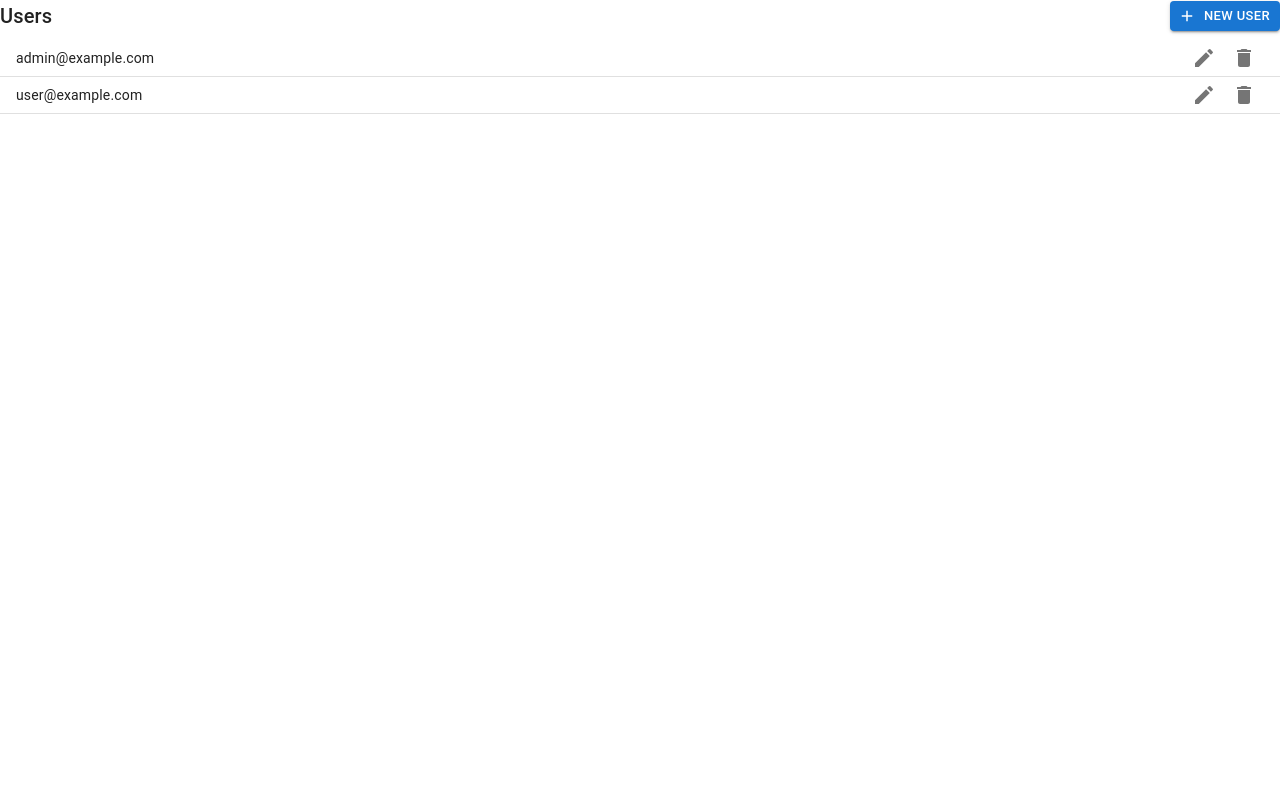
Test: RecordSection › offers Delete on every row and confirms with the default text
The image size is (1280, 800).
Click the button named "Delete" in the row of "user@example.com" at (1244, 95), box [1224,75,1264,115]
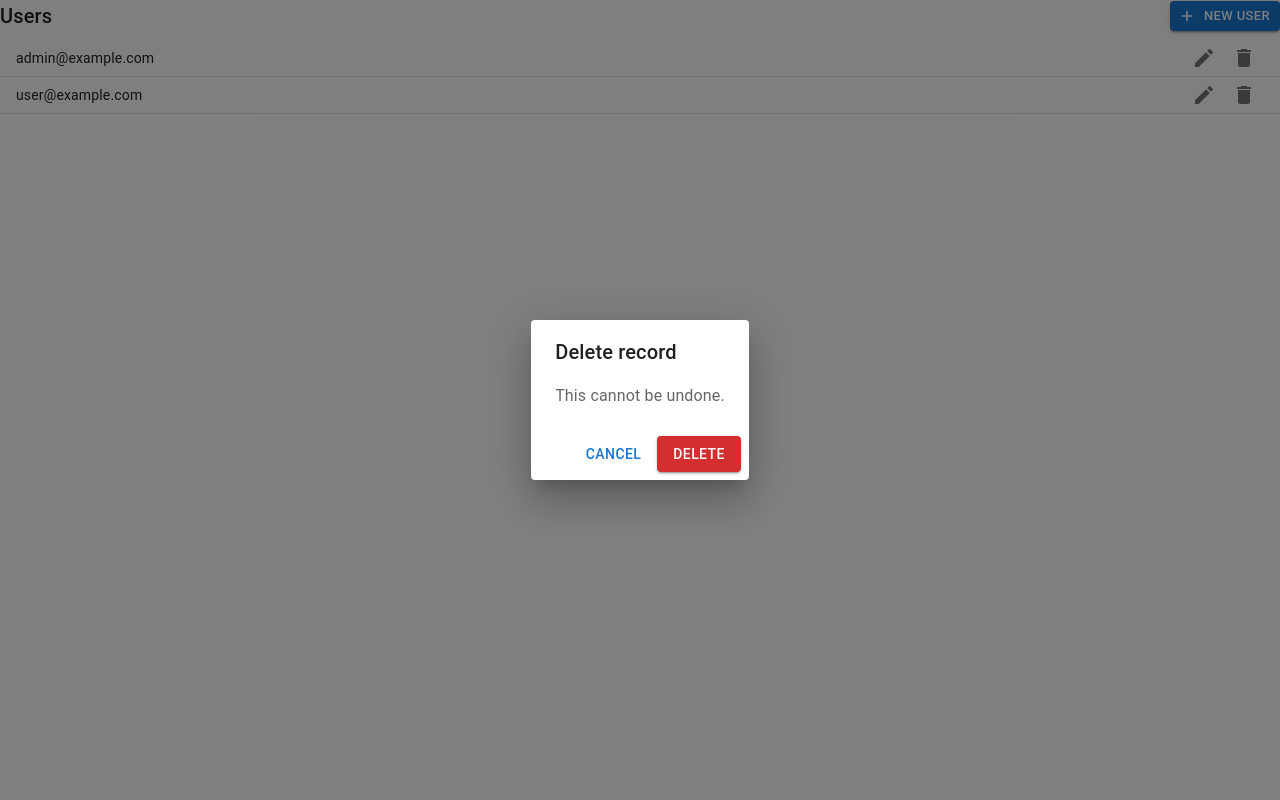
Check: the heading "Delete record" is shown, box [555,340,677,364]
Check: the text "This cannot be undone." is shown, box [555,384,725,408]
Click the button "Delete" at (699, 454), box [657,436,741,472]
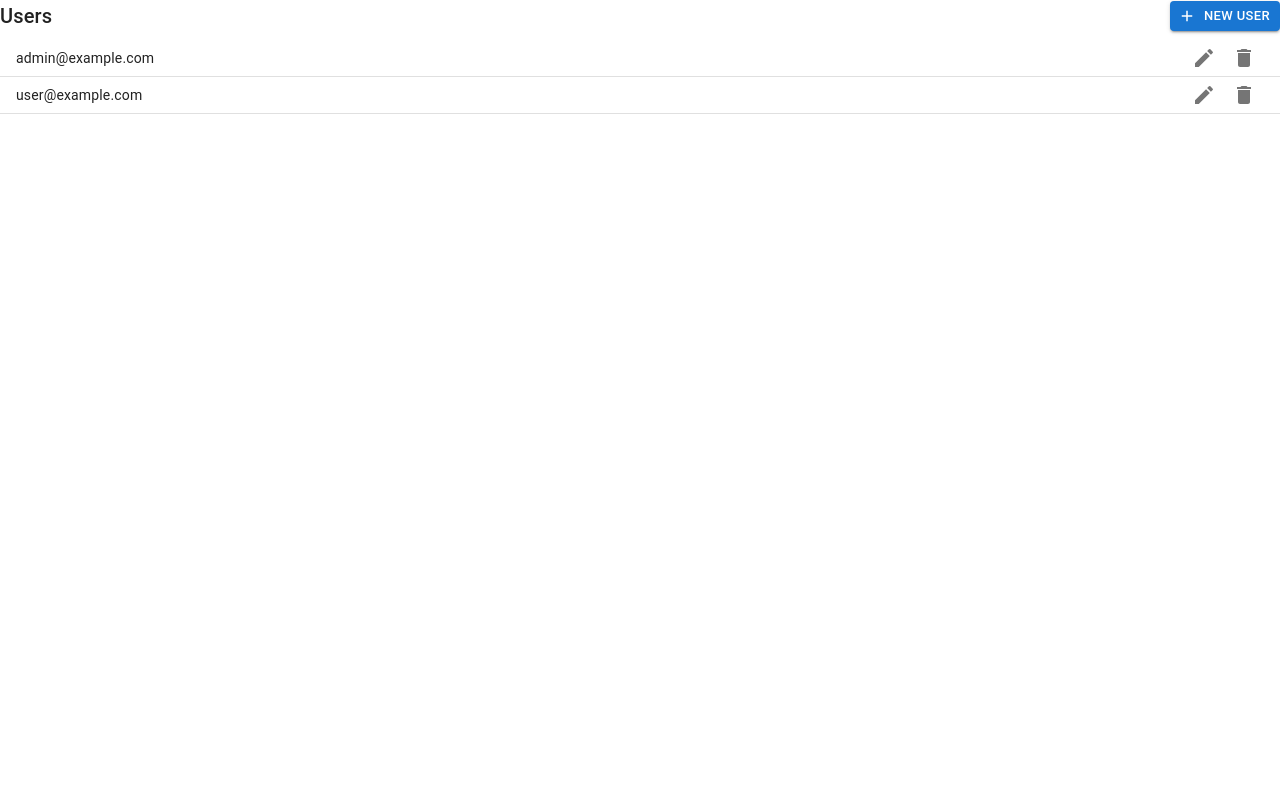
Check: the dialog is gone
